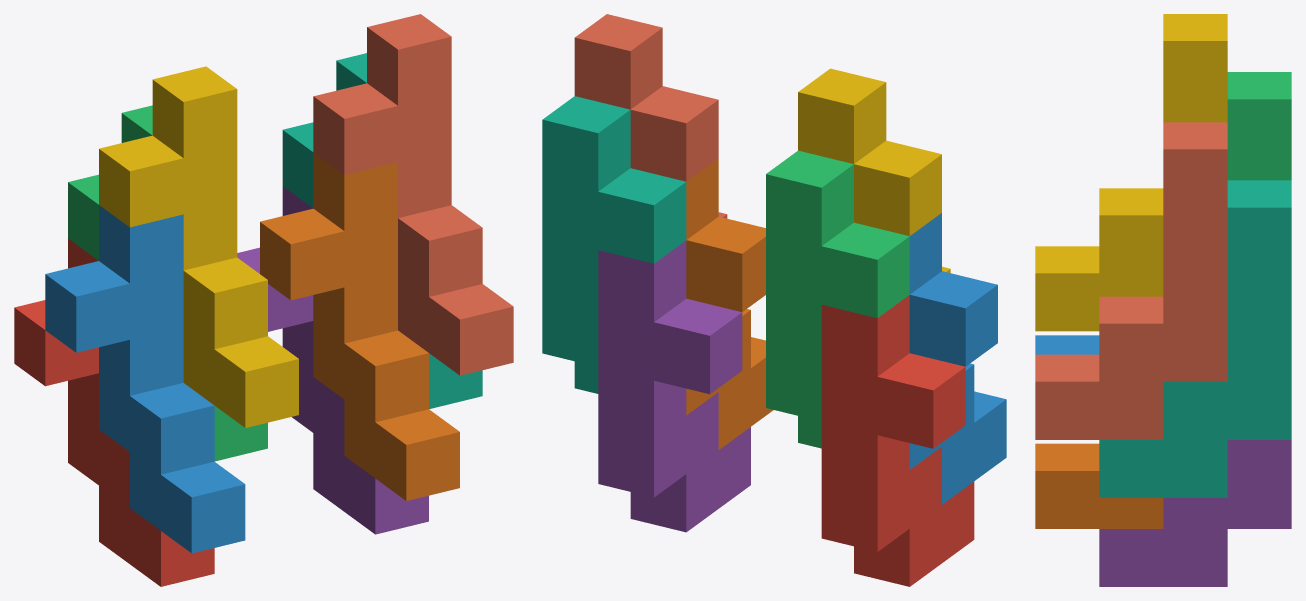
Rendered from tiling.obj.
3 renders of one model, left to right at view 1: azimuth 30°, elevation 25°; view 2: azimuth 150°, elevation 25°; view 3: azimuth 270°, elevation 25°, orthographic. The views are drawn at different scales.
Parts seen in each view (by area): view 1: copy_1_domain_2, copy_1_domain_6, copy_1_domain_4, copy_1_domain_8, copy_1_domain_1, copy_1_domain_5, copy_1_domain_7, copy_1_domain_3; view 2: copy_1_domain_1, copy_1_domain_5, copy_1_domain_7, copy_1_domain_3, copy_1_domain_2, copy_1_domain_8, copy_1_domain_4, copy_1_domain_6; view 3: copy_1_domain_8, copy_1_domain_7, copy_1_domain_4, copy_1_domain_5, copy_1_domain_6, copy_1_domain_3, copy_1_domain_2.
Part boxes in pixels (x1,y1,x2,y2): copy_1_domain_2: (45,205,245,553); copy_1_domain_6: (260,152,459,500); copy_1_domain_4: (99,66,298,427); copy_1_domain_8: (313,14,513,375); copy_1_domain_1: (14,238,214,586); copy_1_domain_5: (237,186,428,534); copy_1_domain_7: (282,53,482,409); copy_1_domain_3: (68,105,267,461); copy_1_domain_1: (821,295,974,586); copy_1_domain_5: (598,240,750,532); copy_1_domain_7: (542,96,686,393); copy_1_domain_3: (766,150,909,448); copy_1_domain_2: (909,213,1006,504); copy_1_domain_8: (574,14,727,218); copy_1_domain_4: (798,68,950,272); copy_1_domain_6: (686,158,773,449); copy_1_domain_8: (1035,122,1227,439); copy_1_domain_7: (1099,180,1291,497); copy_1_domain_4: (1035,14,1227,331); copy_1_domain_5: (1099,440,1291,586); copy_1_domain_6: (1035,443,1163,528); copy_1_domain_3: (1227,72,1291,180); copy_1_domain_2: (1035,335,1099,354).
Bounding box in the file's own units: 7 × 8 × 4.
